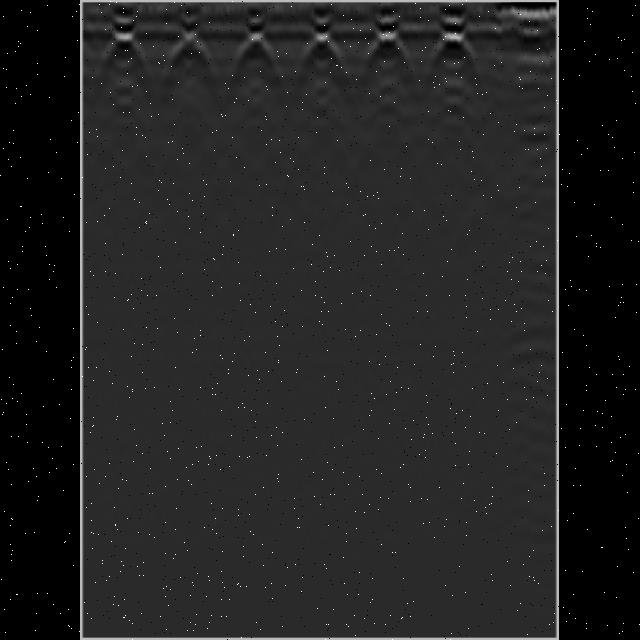hyperbola: (354, 26, 420, 90), (291, 27, 359, 88), (421, 32, 487, 94), (96, 26, 156, 90), (166, 31, 218, 71), (234, 28, 280, 68)
